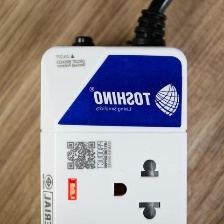three_eye_plug: (36, 38, 193, 223)
